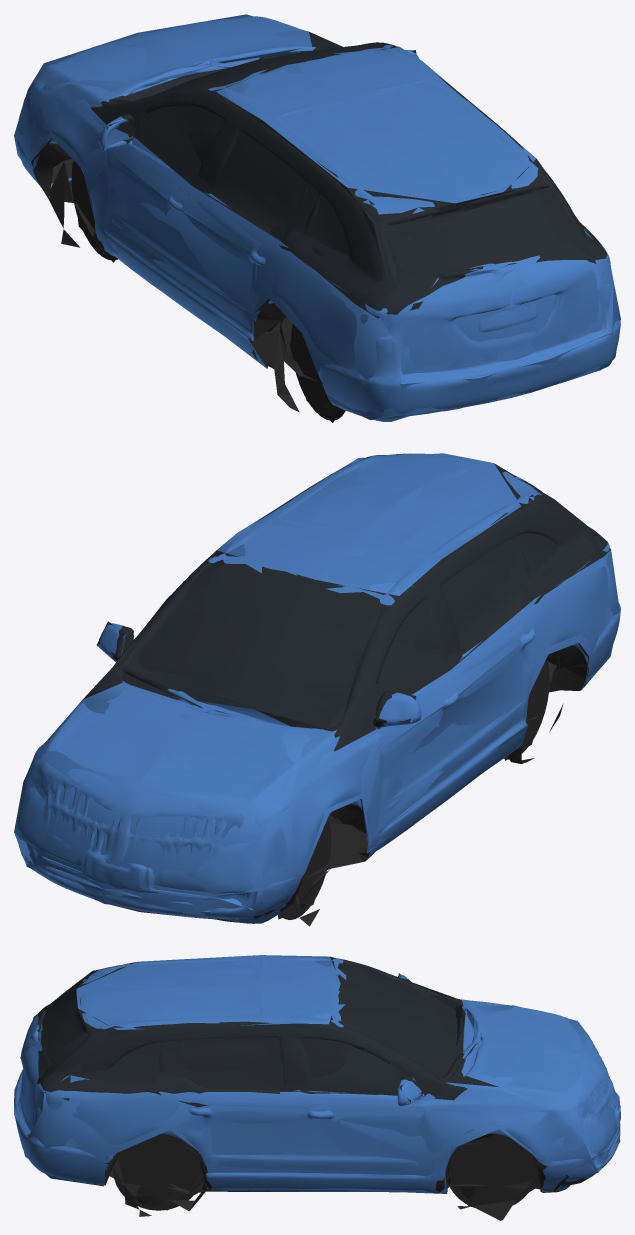
The model's file is lincoln-mkt.glb.
3 renders of one model, top to bottom at view 1: azimuth 30°, elevation 25°; view 2: azimuth 150°, elevation 25°; view 3: azimuth 270°, elevation 25°, orthographic. The views are drawn at different scales.
Parts seen in each view (by area): view 1: body, far; view 2: body, far; view 3: body, far.
Part boxes in pixels (<box>): body: <box>16,16,620,421</box>; far: <box>14,14,620,422</box>; body: <box>18,453,620,926</box>; far: <box>14,453,619,922</box>; body: <box>14,956,620,1220</box>; far: <box>14,955,620,1212</box>.
Bounding box in the file's own units: 2.48 × 1.84 × 5.37.
